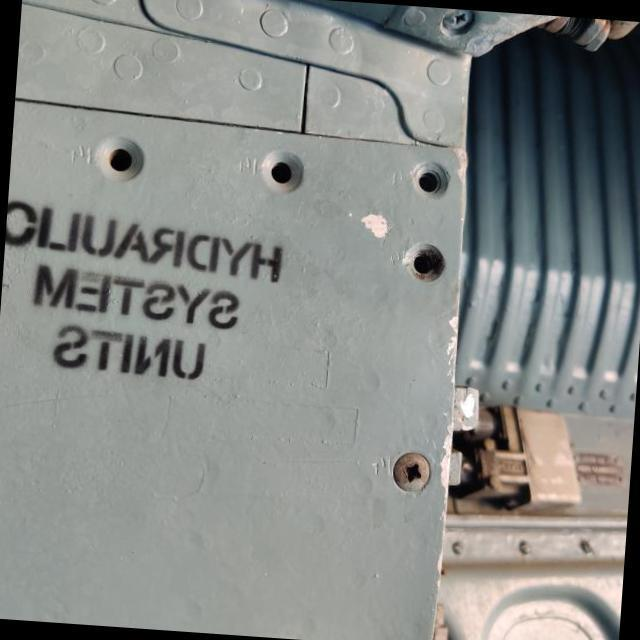Fastener Damage: (233, 116, 328, 224), (72, 108, 170, 208), (378, 122, 474, 224), (375, 213, 472, 311)
